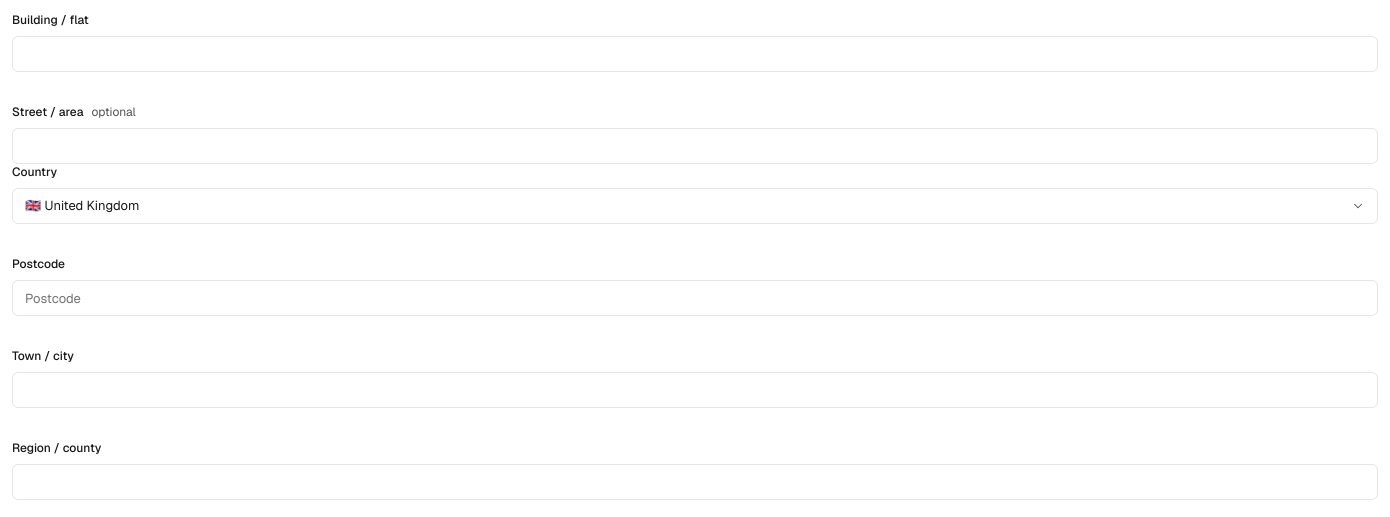
it: AddressFields › puts the space into a UK postcode typed without one
The image size is (1390, 517).
In the field labelled "Postcode": (695, 298) 12,280 -> 1378,316, type "PH28A"
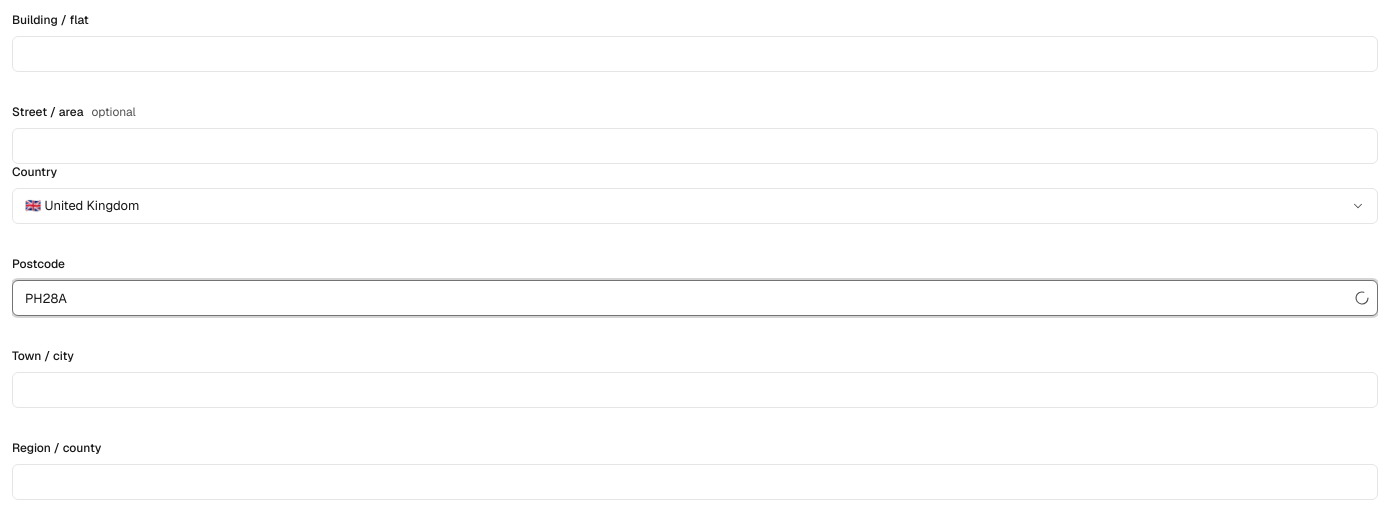
In the field labelled "Postcode": (695, 298) 12,280 -> 1378,316, type "L"
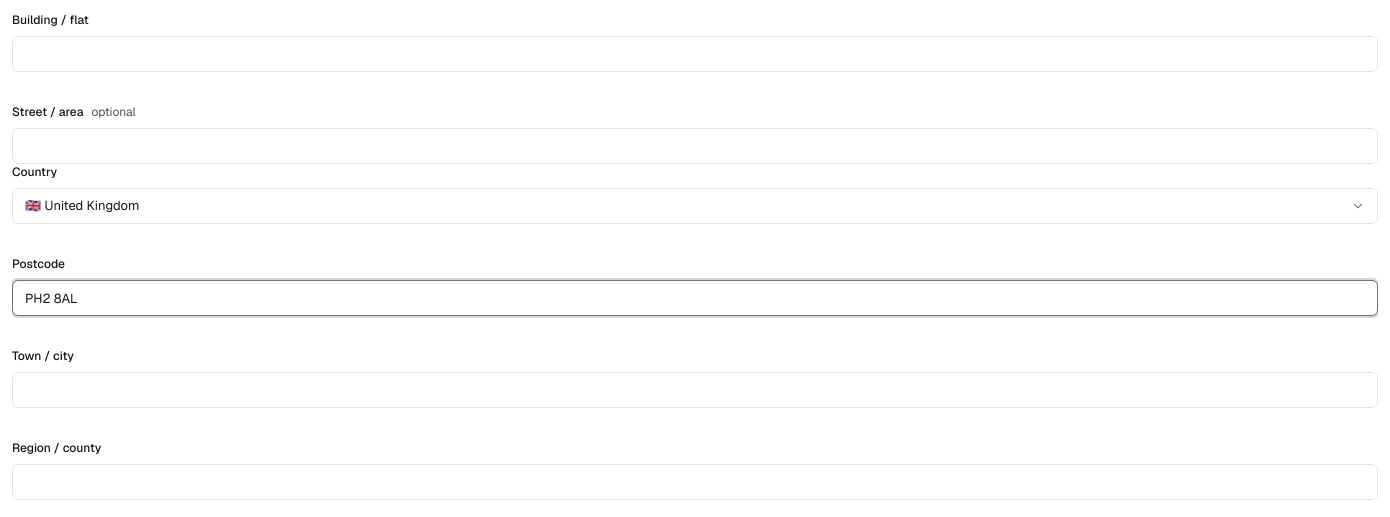
Result: the field labelled "Postcode" holds "PH2 8AL" at 12,280 -> 1378,316
